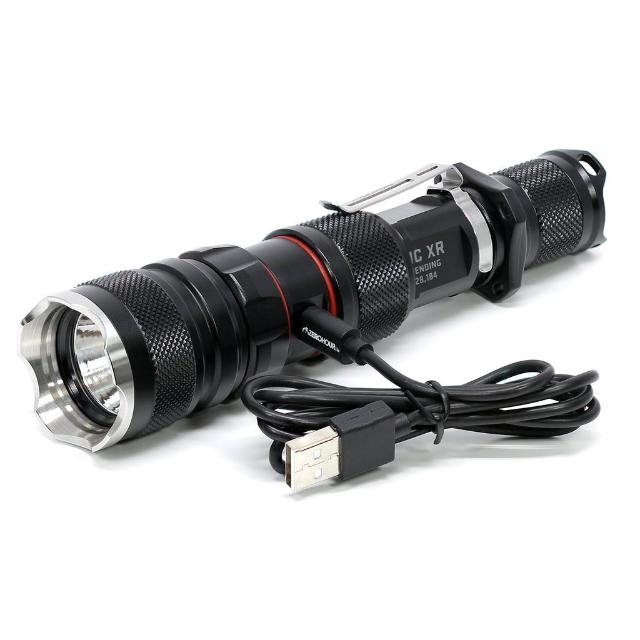Flashlight: (9, 137, 619, 503)
